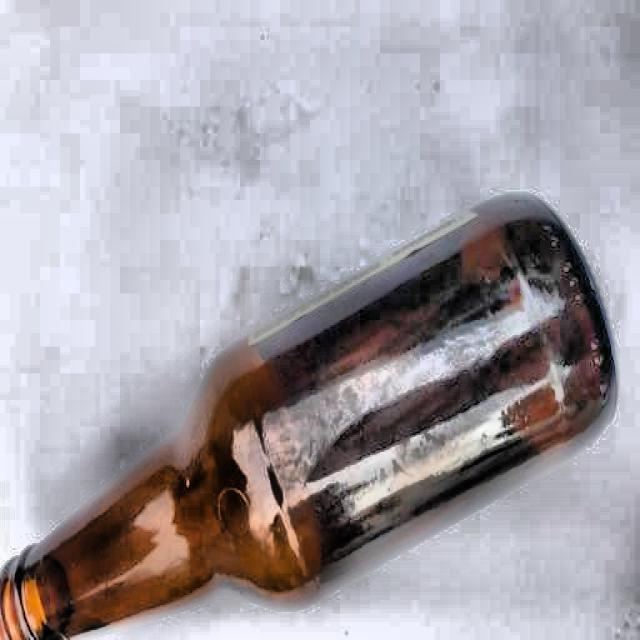glass: (9, 196, 624, 640)
